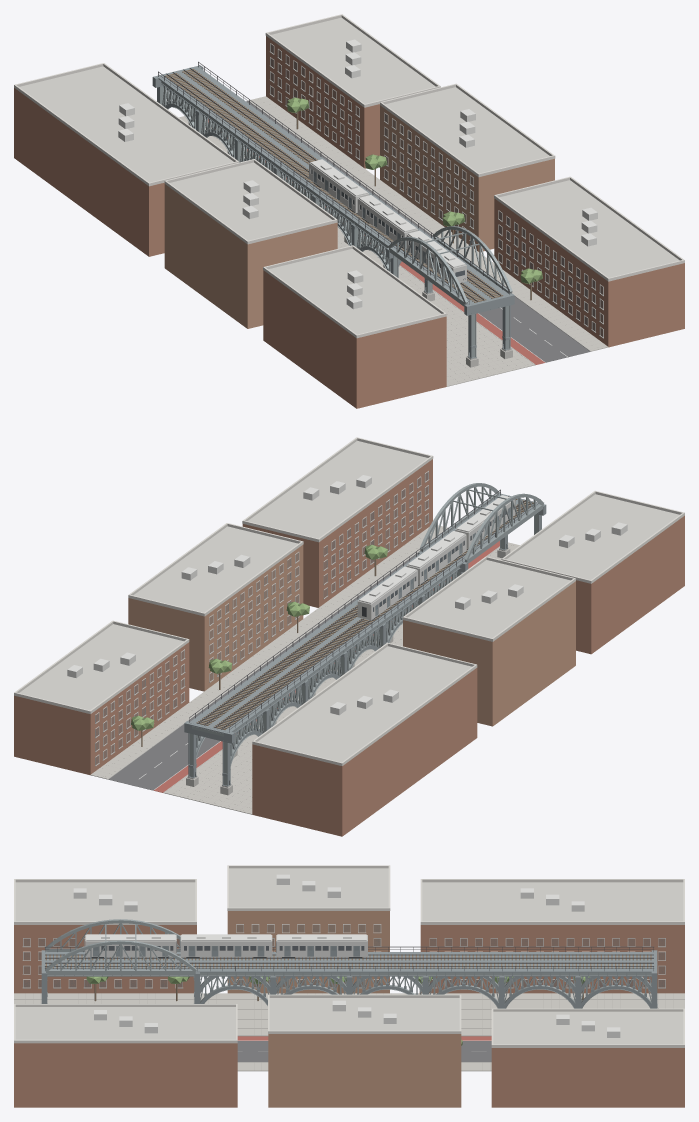
File: clay-rail-through-truss-clay-v003.glb
3 renders of one model, top to bottom at view 1: azimuth 30°, elevation 25°; view 2: azimuth 150°, elevation 25°; view 3: azimuth 270°, elevation 25°, orthographic. The views are drawn at different scales.
Parts seen in each view (by area): view 1: CLAY_ROOF, CLAY_BRICK, CLAY_BRICK2, CLAY_TRIM, CLAY_PLATE, CLAY_PAVING, CLAY_STEEL, CLAY_PALE, CLAY_GLASS, CLAY_TIMBER, CLAY_ASPHALT, CLAY_HARDWARE (+4 smaller); view 2: CLAY_ROOF, CLAY_BRICK, CLAY_BRICK2, CLAY_TRIM, CLAY_PLATE, CLAY_PAVING, CLAY_STEEL, CLAY_PALE, CLAY_GLASS, CLAY_TIMBER, CLAY_ASPHALT, CLAY_HARDWARE (+4 smaller); view 3: CLAY_BRICK, CLAY_ROOF, CLAY_BRICK2, CLAY_PLATE, CLAY_TRIM, CLAY_STEEL, CLAY_PAVING, CLAY_HARDWARE, CLAY_PALE, CLAY_GLASS, CLAY_TIMBER, CLAY_SILVER (+5 smaller).
Part boxes in pixels (x1=…): CLAY_ROOF: x1=19, y1=17, x2=679, y2=334; CLAY_BRICK: x1=14, y1=36, x2=684, y2=408; CLAY_BRICK2: x1=164, y1=105, x2=554, y2=328; CLAY_TRIM: x1=14, y1=14, x2=684, y2=338; CLAY_PLATE: x1=152, y1=65, x2=514, y2=358; CLAY_PAVING: x1=179, y1=96, x2=608, y2=386; CLAY_STEEL: x1=160, y1=81, x2=512, y2=357; CLAY_PALE: x1=118, y1=39, x2=597, y2=309; CLAY_GLASS: x1=270, y1=44, x2=603, y2=336; CLAY_TIMBER: x1=165, y1=69, x2=531, y2=302; CLAY_ASPHALT: x1=246, y1=101, x2=590, y2=362; CLAY_HARDWARE: x1=158, y1=61, x2=509, y2=304; CLAY_ROOF: x1=19, y1=441, x2=679, y2=762; CLAY_BRICK: x1=14, y1=459, x2=684, y2=836; CLAY_BRICK2: x1=128, y1=545, x2=575, y2=726; CLAY_TRIM: x1=14, y1=437, x2=684, y2=765; CLAY_PLATE: x1=184, y1=493, x2=546, y2=786; CLAY_PAVING: x1=91, y1=525, x2=519, y2=814; CLAY_STEEL: x1=189, y1=483, x2=543, y2=785; CLAY_PALE: x1=67, y1=475, x2=627, y2=715; CLAY_GLASS: x1=96, y1=472, x2=513, y2=764; CLAY_TIMBER: x1=141, y1=499, x2=533, y2=746; CLAY_ASPHALT: x1=109, y1=553, x2=417, y2=790; CLAY_HARDWARE: x1=189, y1=489, x2=538, y2=732; CLAY_BRICK: x1=14, y1=925, x2=684, y2=1107; CLAY_ROOF: x1=15, y1=868, x2=683, y2=1044; CLAY_BRICK2: x1=227, y1=911, x2=461, y2=1107; CLAY_PLATE: x1=41, y1=946, x2=657, y2=1008; CLAY_TRIM: x1=14, y1=865, x2=684, y2=1047; CLAY_STEEL: x1=45, y1=919, x2=651, y2=1008; CLAY_PAVING: x1=14, y1=993, x2=684, y2=1071; CLAY_HARDWARE: x1=45, y1=946, x2=653, y2=971; CLAY_PALE: x1=73, y1=874, x2=620, y2=1037; CLAY_GLASS: x1=23, y1=924, x2=665, y2=987; CLAY_TIMBER: x1=45, y1=954, x2=651, y2=1001; CLAY_SILVER: x1=85, y1=935, x2=367, y2=957.
Size of the model in its own units: 73.04 by 19.85 by 132.
